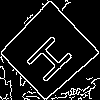H: (24, 26, 82, 84)
